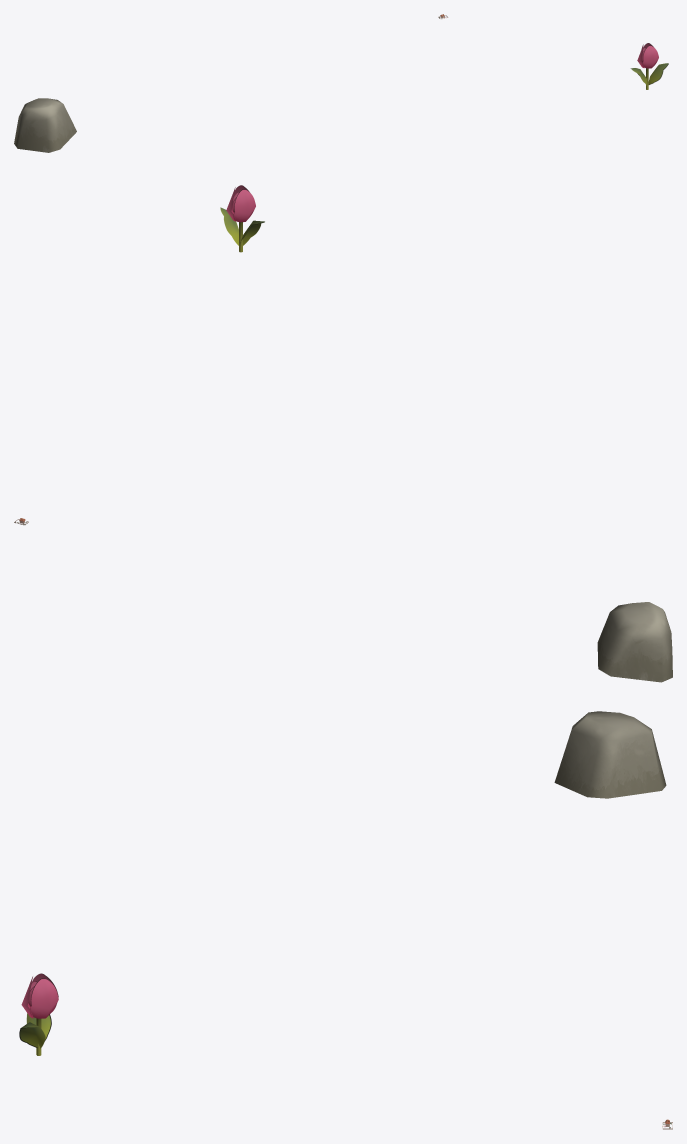
Rendered from ac-house-notree2.glb.
3 views of the same model, one above another, from view 1: azimuth 30°, elevation 25°; view 2: azimuth 150°, elevation 25°; view 3: azimuth 270°, elevation 25° (orthographic). The views are drawn at different scales.
Parts seen in each view (by area): view 1: rock4_pCube21_M_ATLAS_2_0, polySurface204_M_ATLAS_VEG_0; view 2: rock4_pCube21_M_ATLAS_2_0; view 3: rock4_pCube21_M_ATLAS_2_0, polySurface207_M_ATLAS_VEG_0.
Boxes of the visible parts, <box> form: rock4_pCube21_M_ATLAS_2_0: <box>14,98,76,152</box>; polySurface204_M_ATLAS_VEG_0: <box>642,45,658,68</box>; rock4_pCube21_M_ATLAS_2_0: <box>597,602,672,682</box>; rock4_pCube21_M_ATLAS_2_0: <box>554,711,666,798</box>; polySurface207_M_ATLAS_VEG_0: <box>30,978,58,1018</box>.
Size of the model in its own units: 7.46 by 1.65 by 4.96.
Materials: 4 (4 with a texture image).
